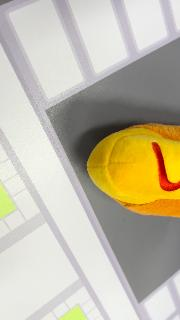hotdog: (86, 122, 180, 218)
